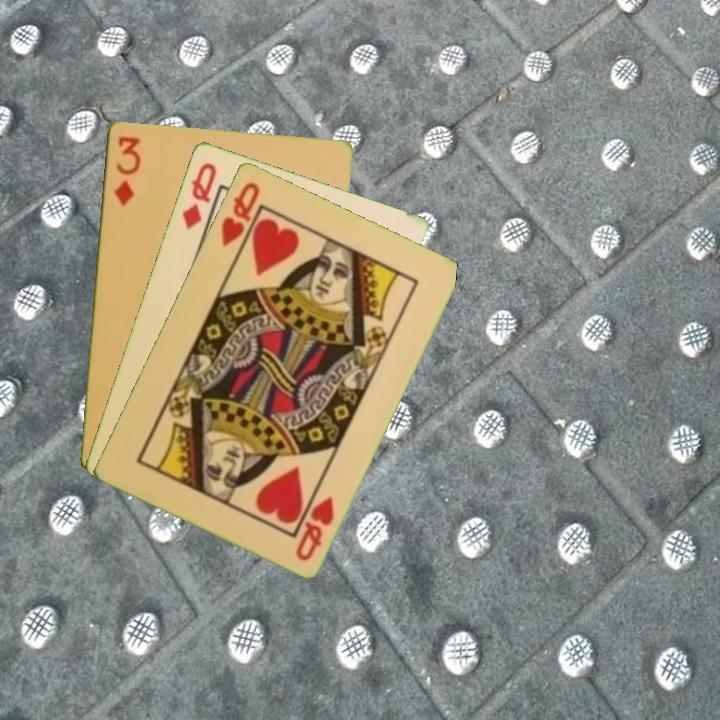3d: (110, 132, 143, 208)
Qd: (178, 158, 219, 232)
Qh: (217, 178, 264, 259), (291, 492, 337, 563)
